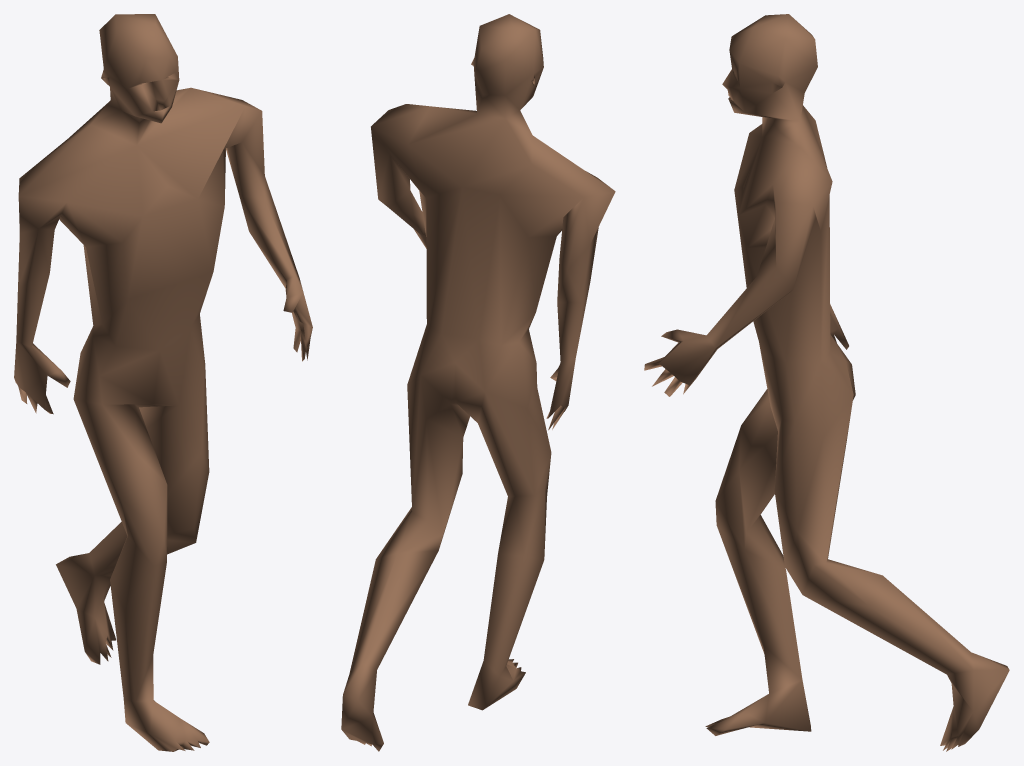
Rendered from obs_000021.obj.
3 views of the same model, side by side, from view 1: azimuth 30°, elevation 25°; view 2: azimuth 150°, elevation 25°; view 3: azimuth 270°, elevation 25° (orthographic). The views are drawn at different scales.
Parts seen in each view (by area): view 1: 1-base_1-base.008; view 2: 1-base_1-base.008; view 3: 1-base_1-base.008.
Part boxes in pixels (bbox=[...]): 1-base_1-base.008: bbox=[14, 14, 312, 751]; 1-base_1-base.008: bbox=[341, 14, 615, 751]; 1-base_1-base.008: bbox=[644, 14, 1009, 751].
Bounding box in the file's own units: 0.4515 × 1.25 × 0.5898.
